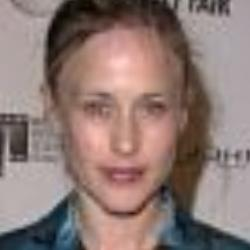face: (36, 1, 207, 219)
